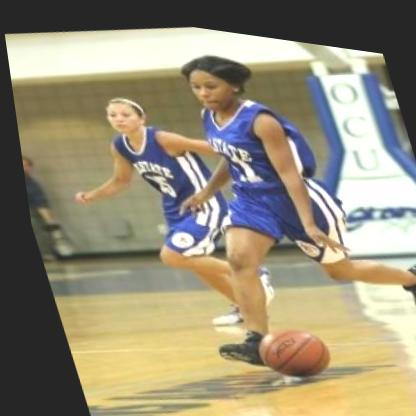basketball: (238, 306, 333, 383)
